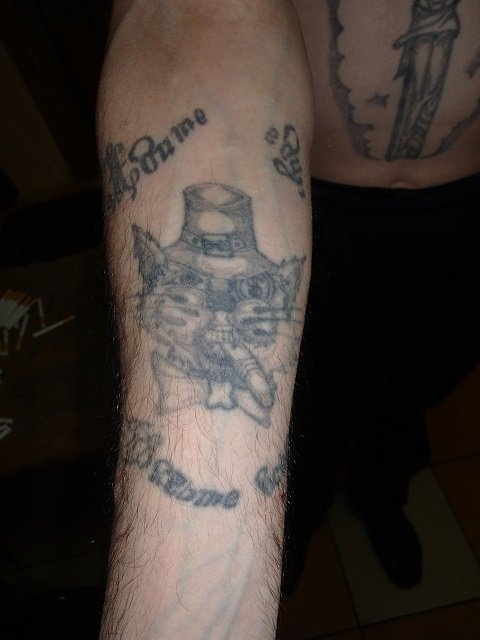tatu3_bukva: (102, 416, 241, 522), (88, 103, 215, 188), (249, 113, 328, 202), (256, 436, 289, 503)
tatu8_kot: (129, 188, 311, 429)
